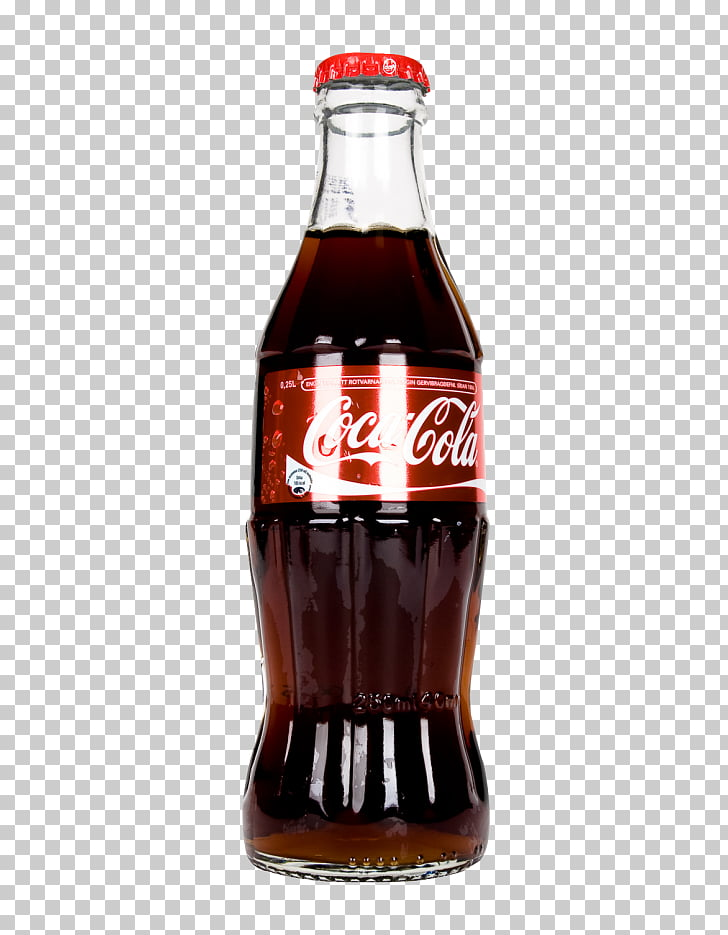Coca-Cola: (206, 47, 528, 894)
